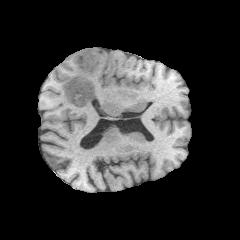glioma: (61, 50, 104, 107)
